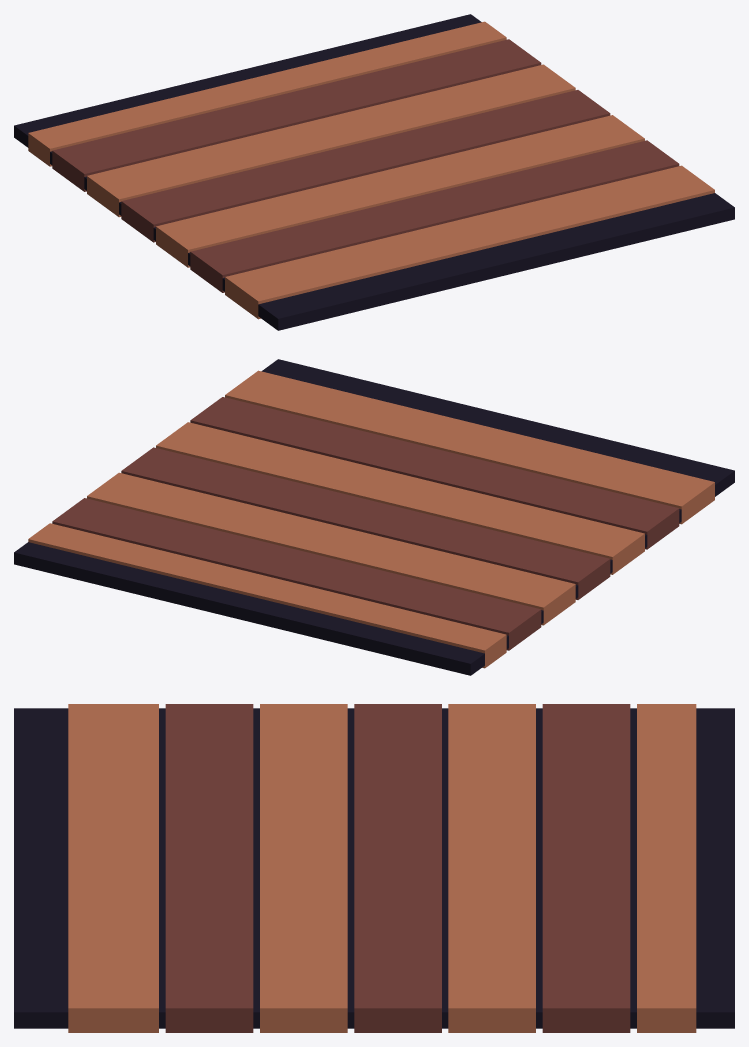
The model's file is Modular Floor 01.fbx.
3 renders of one model, top to bottom at view 1: azimuth 30°, elevation 25°; view 2: azimuth 150°, elevation 25°; view 3: azimuth 270°, elevation 25°, orthographic. The views are drawn at different scales.
Visible parts, largest first — view 1: Modular Floor 01; view 2: Modular Floor 01; view 3: Modular Floor 01.
Part boxes in pixels (x1=…): Modular Floor 01: x1=14, y1=14, x2=734, y2=330; Modular Floor 01: x1=14, y1=359, x2=734, y2=675; Modular Floor 01: x1=14, y1=704, x2=734, y2=1032.
Size of the model in its own units: 400 by 15 by 401.
